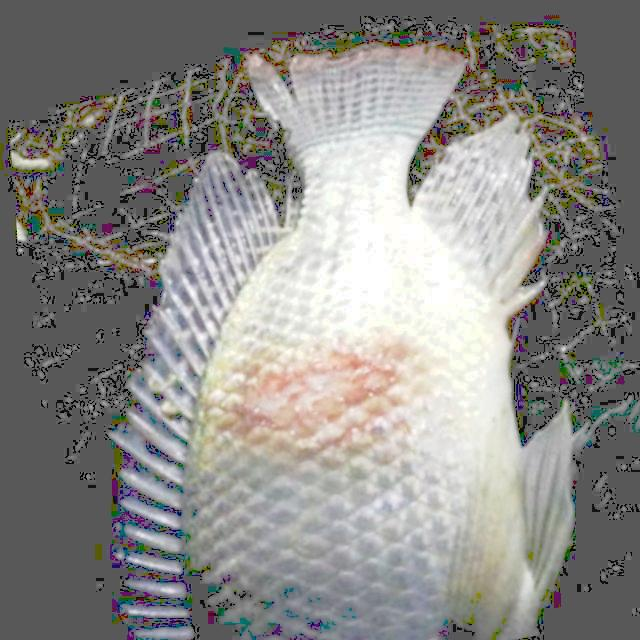Tilapia Lake Virus -TiLV-: (112, 46, 574, 639)
